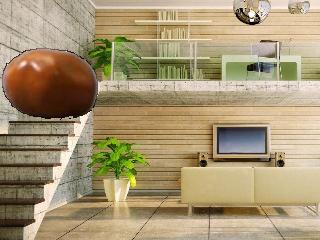potato: (0, 46, 101, 121)
